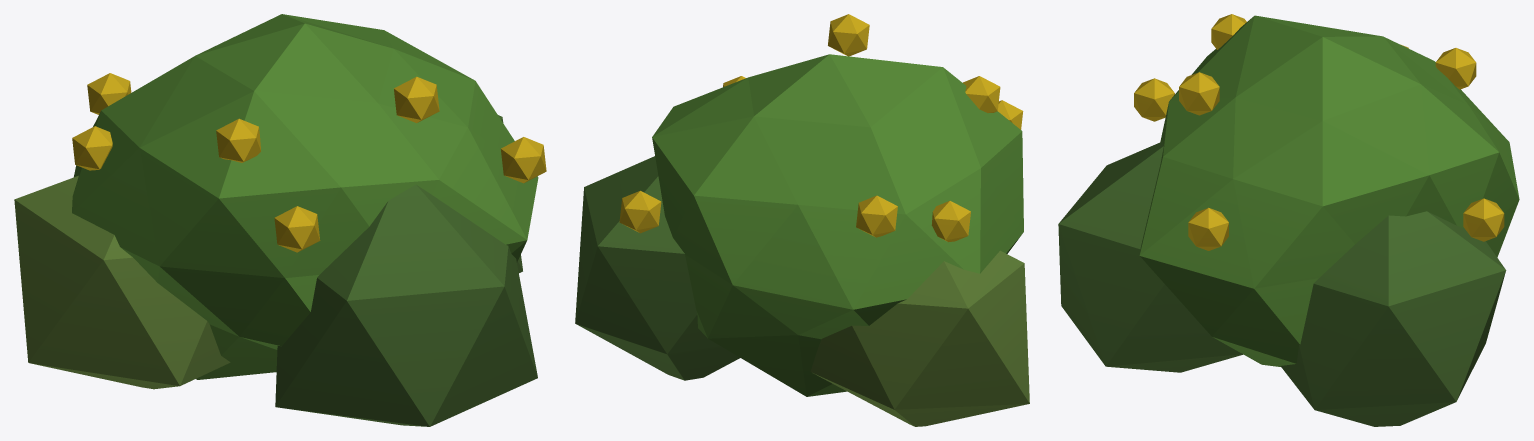
Rendered from e_bush_b.glb.
3 views of the same model, side by side, from view 1: azimuth 30°, elevation 25°; view 2: azimuth 150°, elevation 25°; view 3: azimuth 270°, elevation 25° (orthographic). The views are drawn at different scales.
Visible parts, largest first — view 1: e_bush_b; view 2: e_bush_b; view 3: e_bush_b.
Boxes of the visible parts, x1,y1,x2,y2 form: e_bush_b: [14, 14, 546, 426]; e_bush_b: [575, 14, 1029, 426]; e_bush_b: [1058, 14, 1519, 426].
Size of the model in its own units: 1.61 by 1.13 by 1.44.
